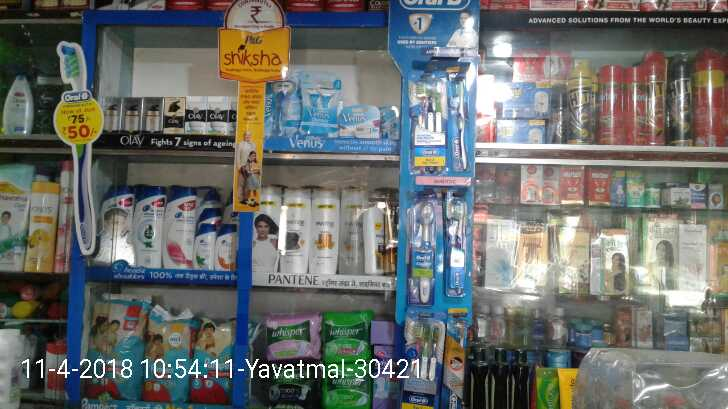venus: (301, 71, 339, 131), (268, 82, 301, 131), (341, 105, 383, 134), (383, 107, 404, 134)
